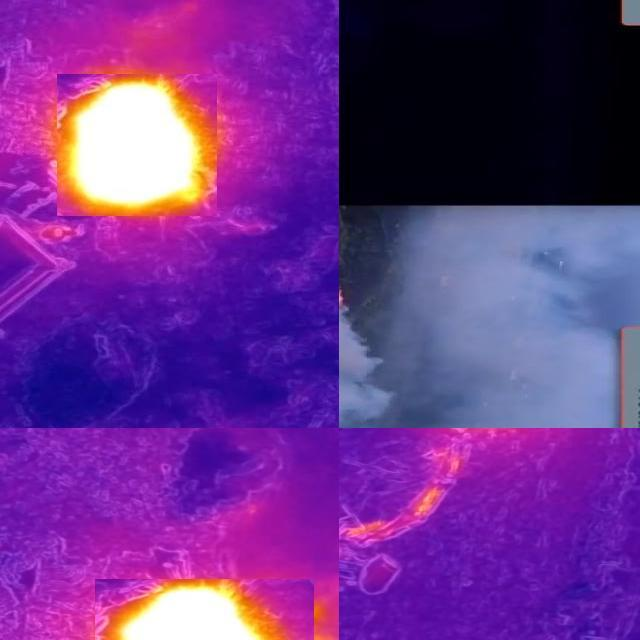fire: (57, 75, 217, 217), (95, 580, 314, 640)
